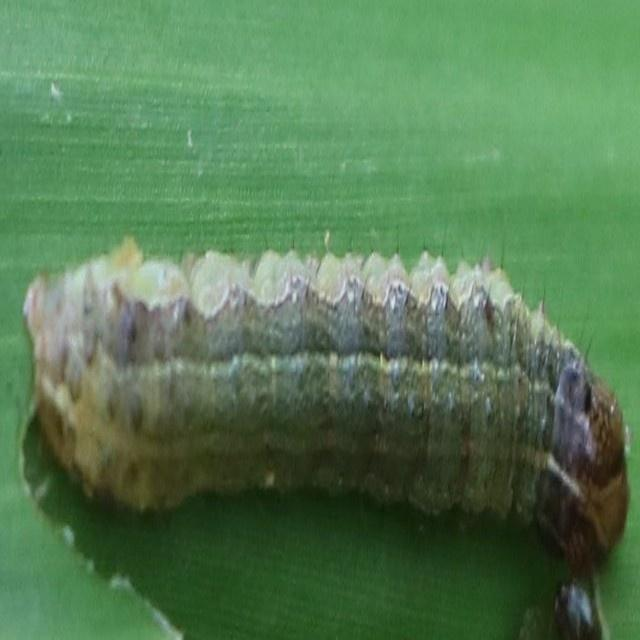worm: (22, 237, 631, 576)
